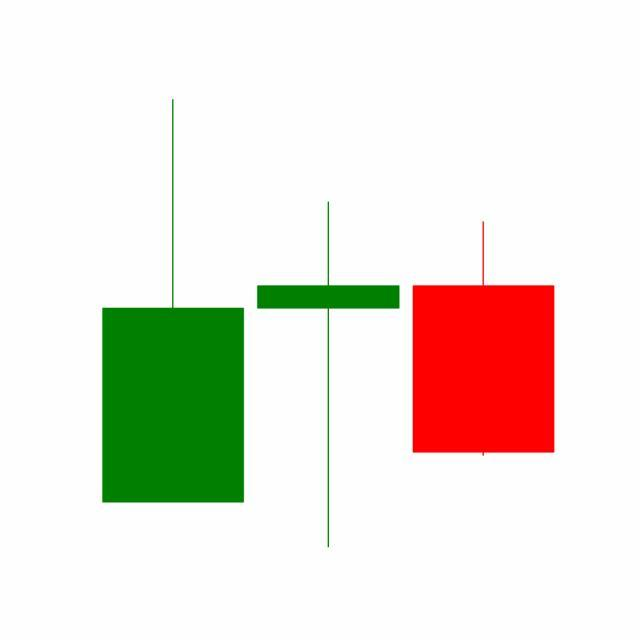Spinning Top: (250, 199, 407, 552)
